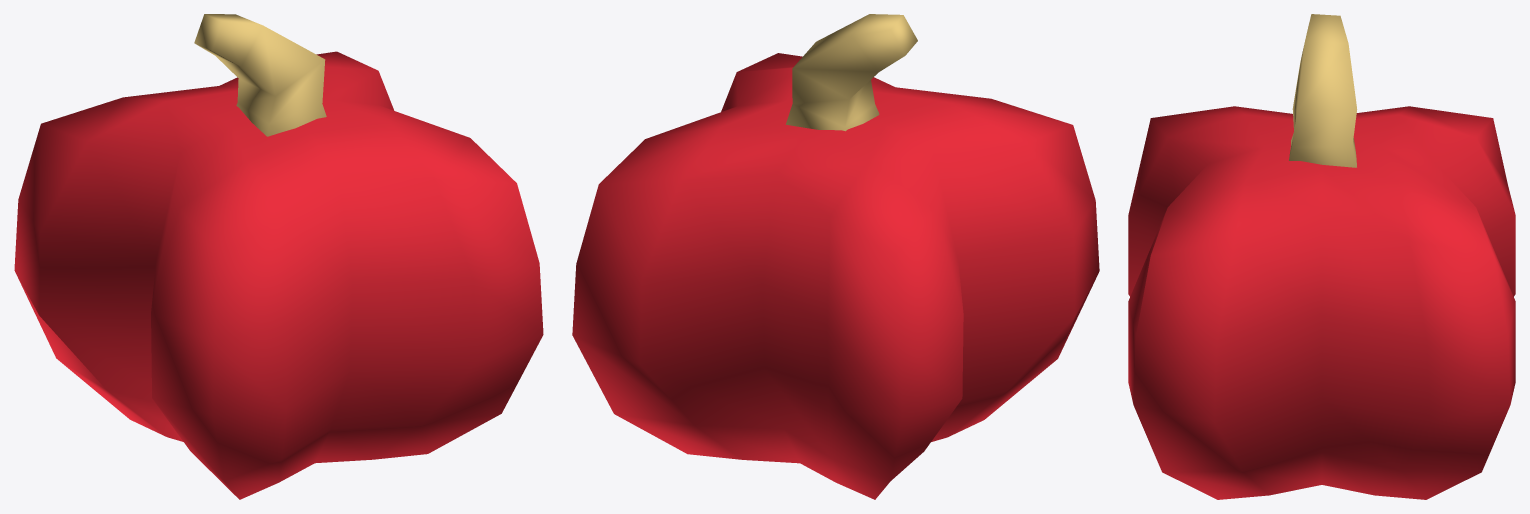
The model's file is berry.fbx.
3 renders of one model, left to right at view 1: azimuth 30°, elevation 25°; view 2: azimuth 150°, elevation 25°; view 3: azimuth 270°, elevation 25°, orthographic. The views are drawn at different scales.
Parts seen in each view (by area): view 1: berry; view 2: berry; view 3: berry.
Part boxes in pixels (x1,y1,x2,y2): berry: (14, 14, 543, 499); berry: (572, 14, 1099, 499); berry: (1128, 14, 1515, 499).
Size of the model in its own units: 124 by 141 by 119.
